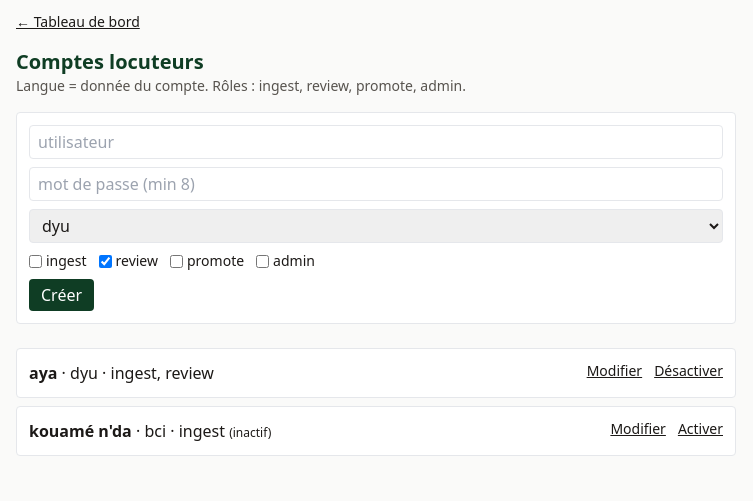
Test case: AdminView — creation de compte › affiche l'erreur de l'API sans recharger la liste
Type "fanta" into the field with placeholder "utilisateur" at [376, 142], box [29,125,723,159]
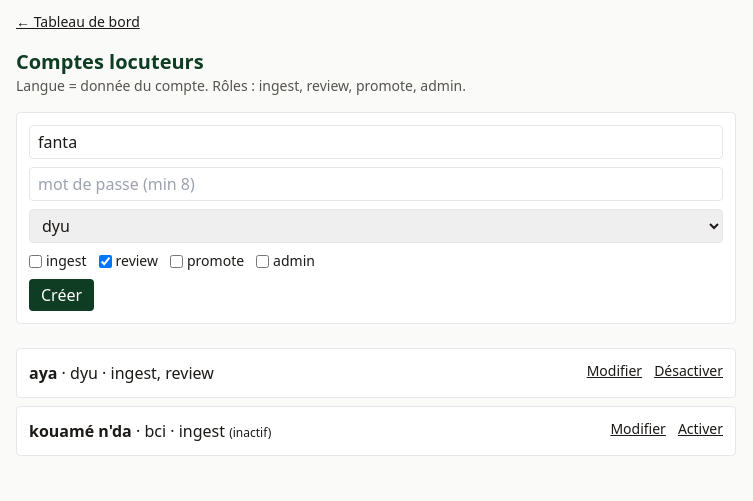
Type "motdepasse8" into the password field with placeholder "mot de passe (min 8)" at [376, 184], box [29,167,723,201]
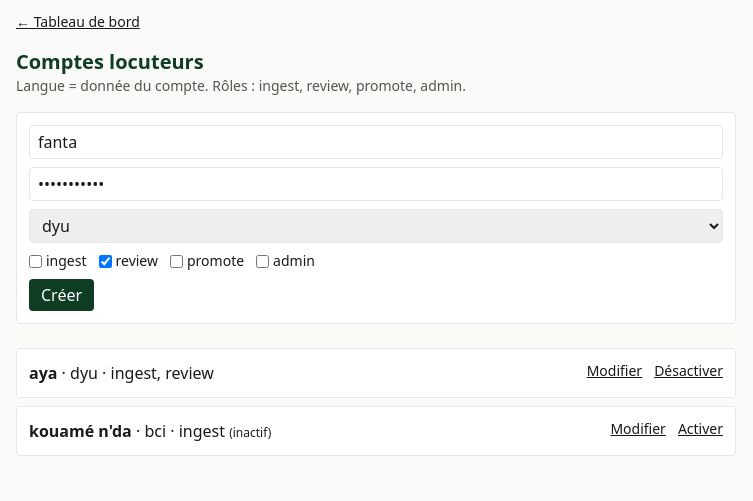
Submit the form, box [16,112,736,324]
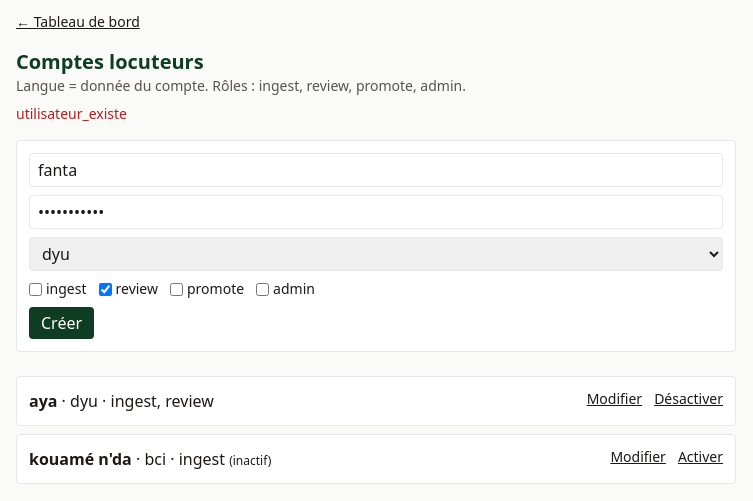
Now the text "utilisateur_existe" is shown, box [16,104,127,123]
